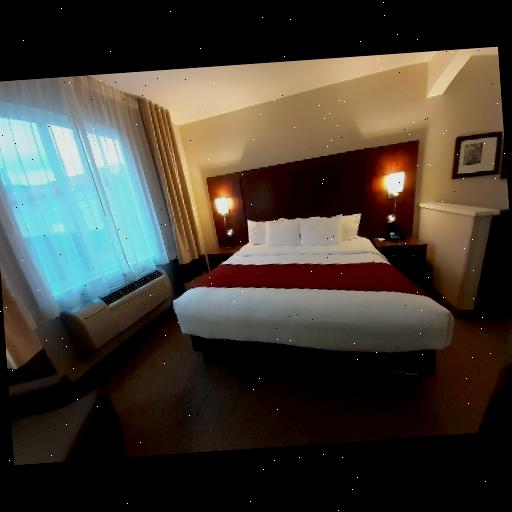clean_bed: (180, 138, 444, 388)
organised_pillow: (244, 210, 368, 252)
